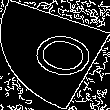O_SE: (13, 25, 97, 85)
